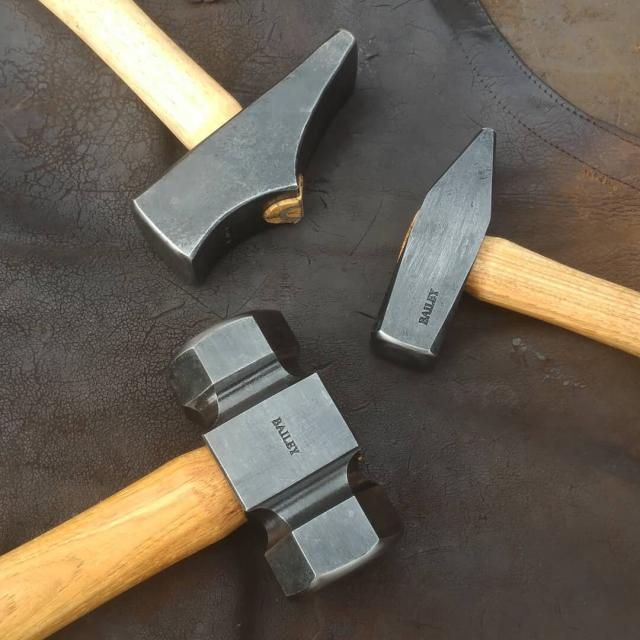hammer: (0, 297, 428, 639), (27, 0, 364, 289), (371, 122, 640, 388)
